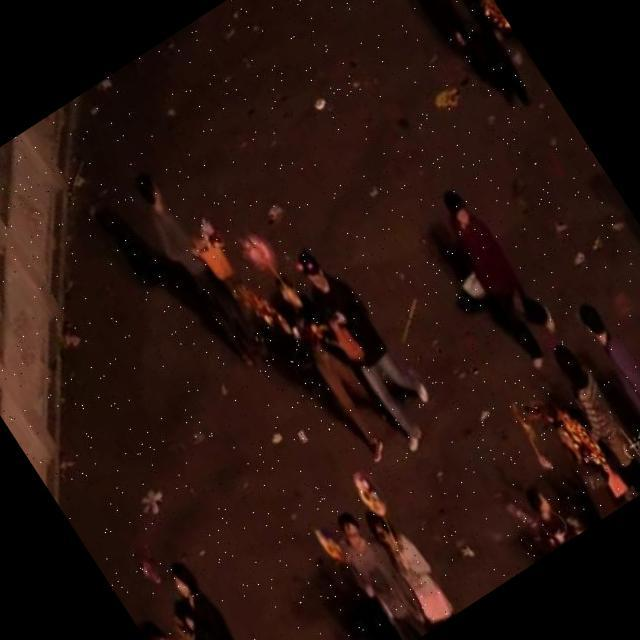person: (285, 232, 455, 457), (243, 257, 408, 471), (118, 162, 276, 378), (416, 169, 571, 371), (403, 0, 538, 120), (540, 338, 640, 499), (517, 397, 635, 532), (349, 486, 458, 629), (138, 540, 290, 640), (560, 286, 640, 476), (320, 506, 433, 640), (496, 458, 582, 556), (132, 600, 252, 640), (613, 281, 640, 425)
